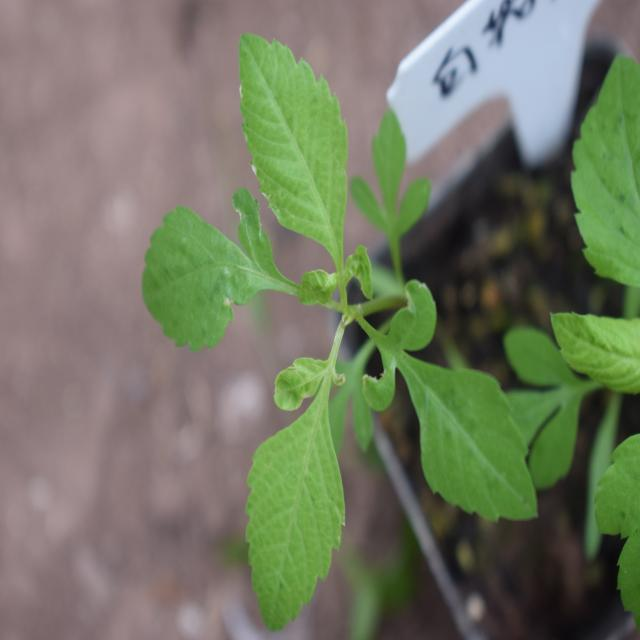Bidens pilosa: (123, 40, 538, 602)
